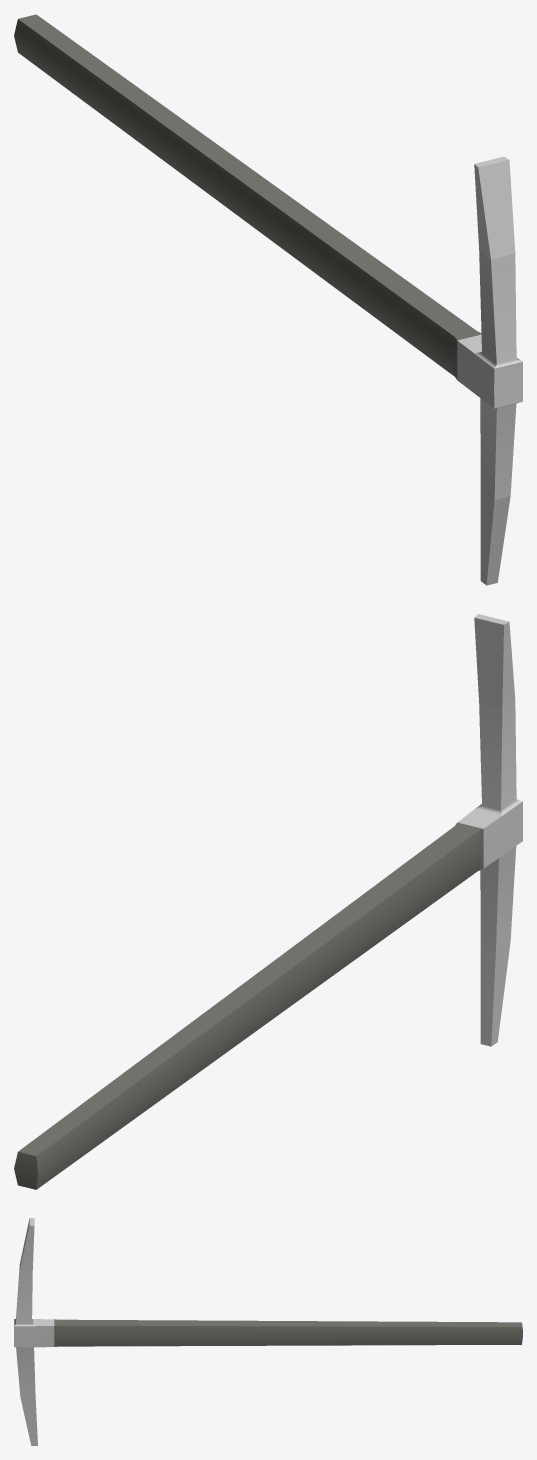
Rendered from pickaxe.fbx.
The picture shows the model from 3 angles, top to bottom: view 1: azimuth 30°, elevation 25°; view 2: azimuth 150°, elevation 25°; view 3: azimuth 270°, elevation 25°; orthographic projection. The views are drawn at different scales.
Visible parts, largest first — view 1: pickaxe_mesh; view 2: pickaxe_mesh; view 3: pickaxe_mesh.
Part boxes in pixels (x1,y1,x2,y2): pickaxe_mesh: [14, 14, 522, 585]; pickaxe_mesh: [14, 614, 522, 1189]; pickaxe_mesh: [14, 1218, 522, 1445].
Size of the model in its own units: 0.5056 by 6.53 by 13.53.
2 materials, 2 textured.
